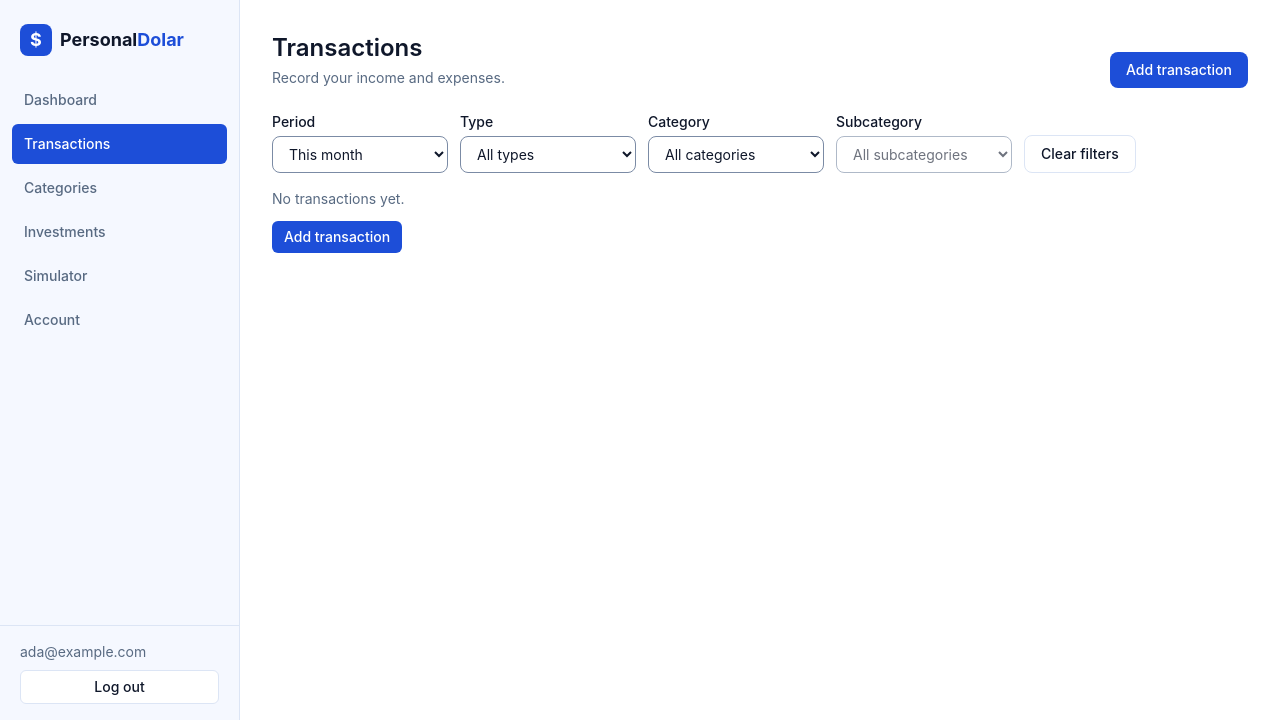
Scenario: Add transaction › is offered in the empty state
This screenshot has width=1280, height=720.
Expected: the heading "Transactions" is shown, [272, 33, 422, 62]
Expected: the text "No transactions yet." is shown, [272, 189, 404, 209]
Click the button "Add transaction" below "No transactions yet." at (337, 237), box [272, 221, 402, 253]
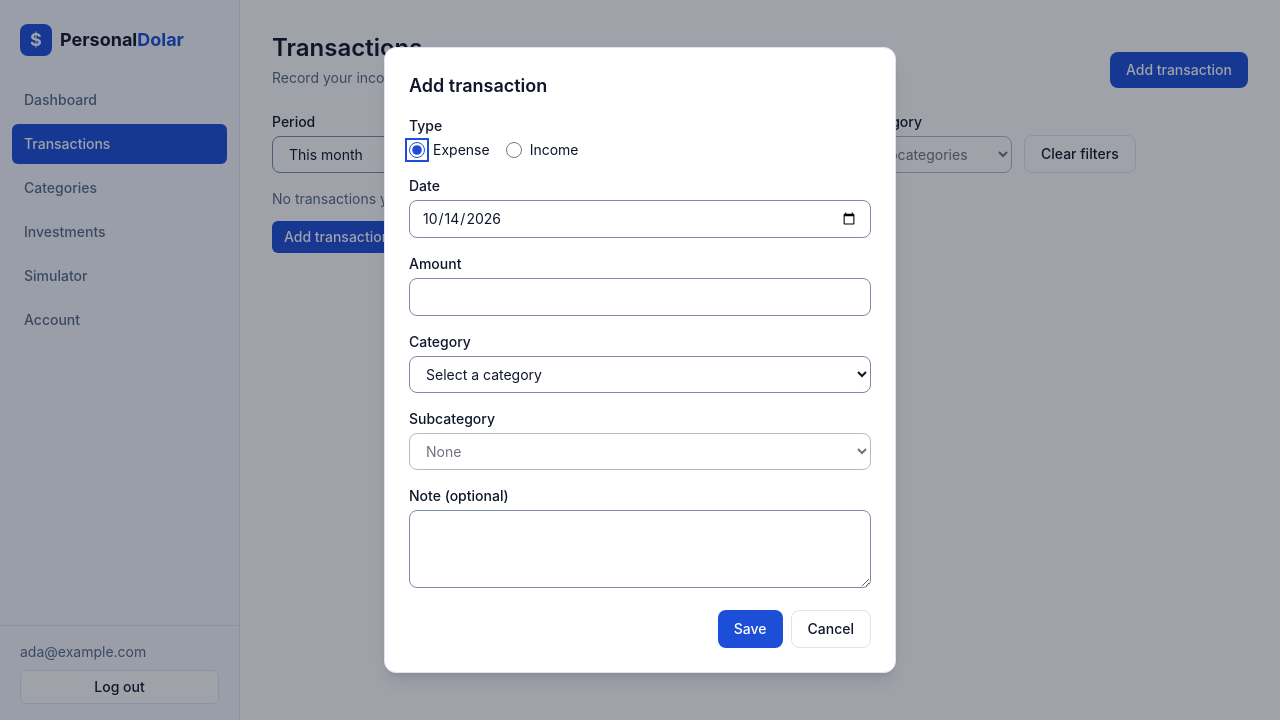
Expected: the dialog "Add transaction" is shown, [384, 47, 896, 673]
